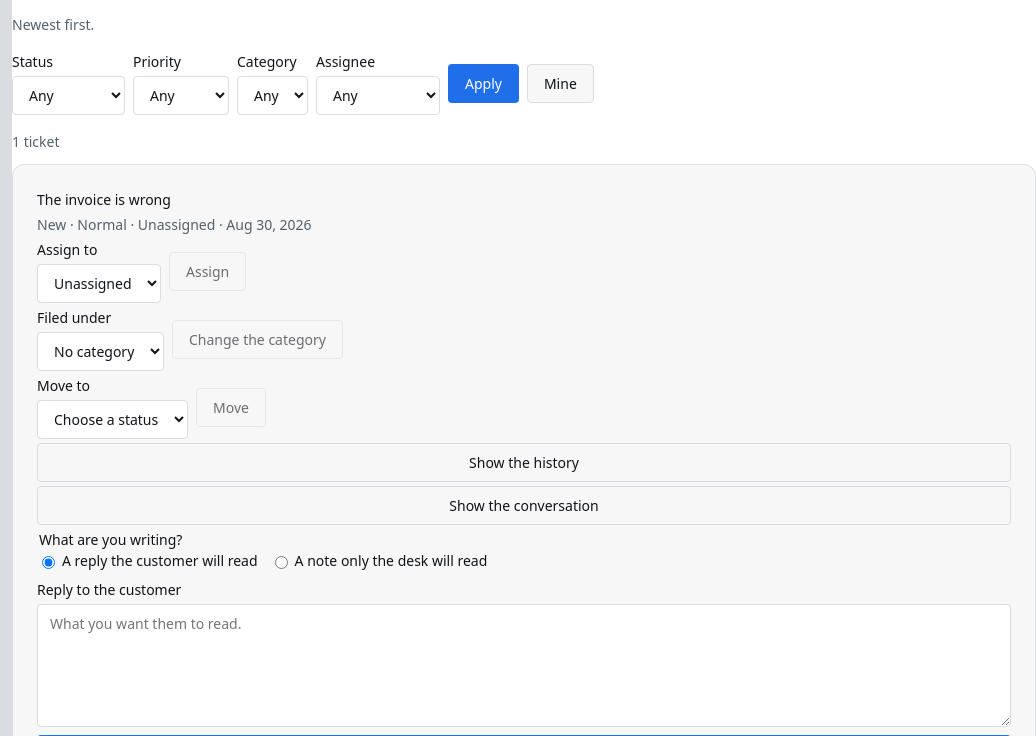
Test: the row follows the ticket the reply changed
The width and height of the screenshot is (1036, 736).
Step 1. Type "We are looking at it." into the text box labelled "Reply to the customer" → [524, 666], box 37,604 -> 1011,727
(page scrolled)
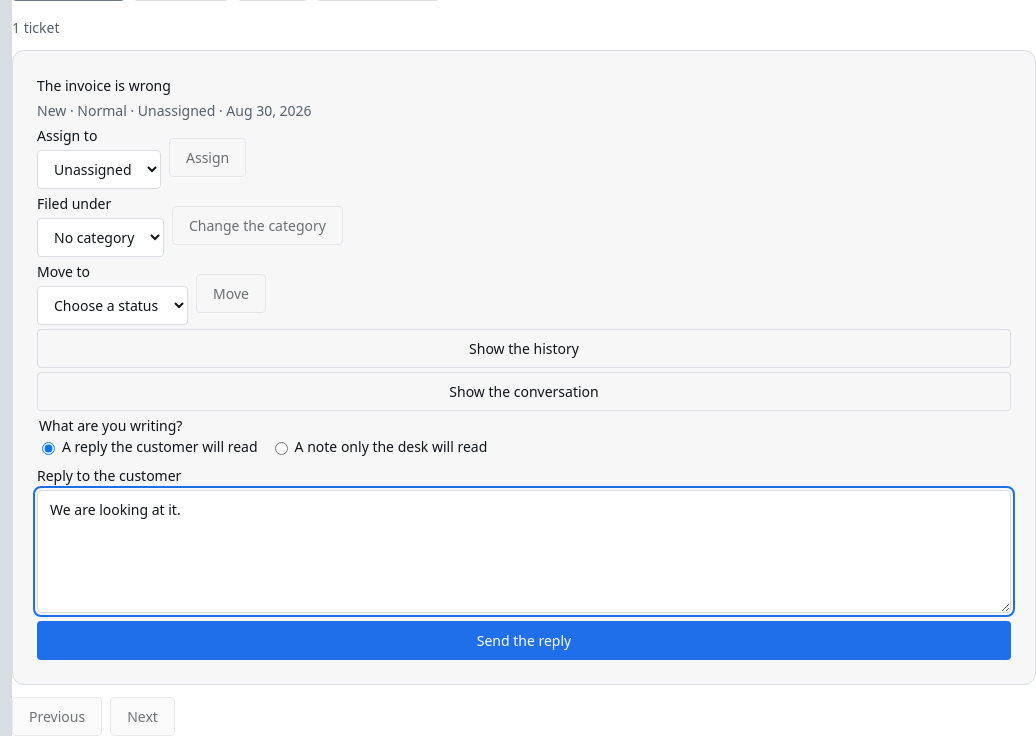
Step 2. Click the button "Send the reply" → [524, 640], box 37,621 -> 1011,660
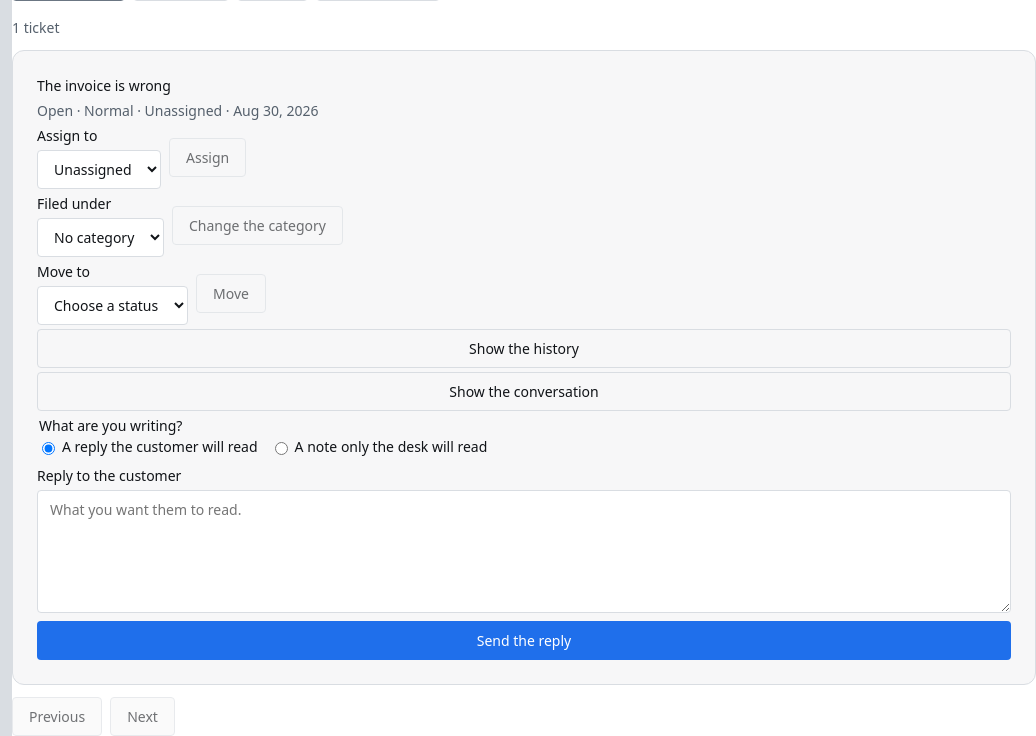
Expected: the text "Open · Normal · Unassigned · Aug 30, 2026" is shown, 37,101 -> 318,120
